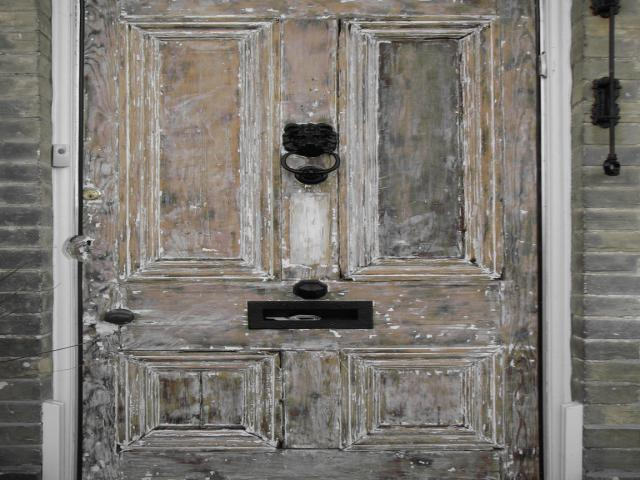Door-handle: (104, 307, 136, 325)
